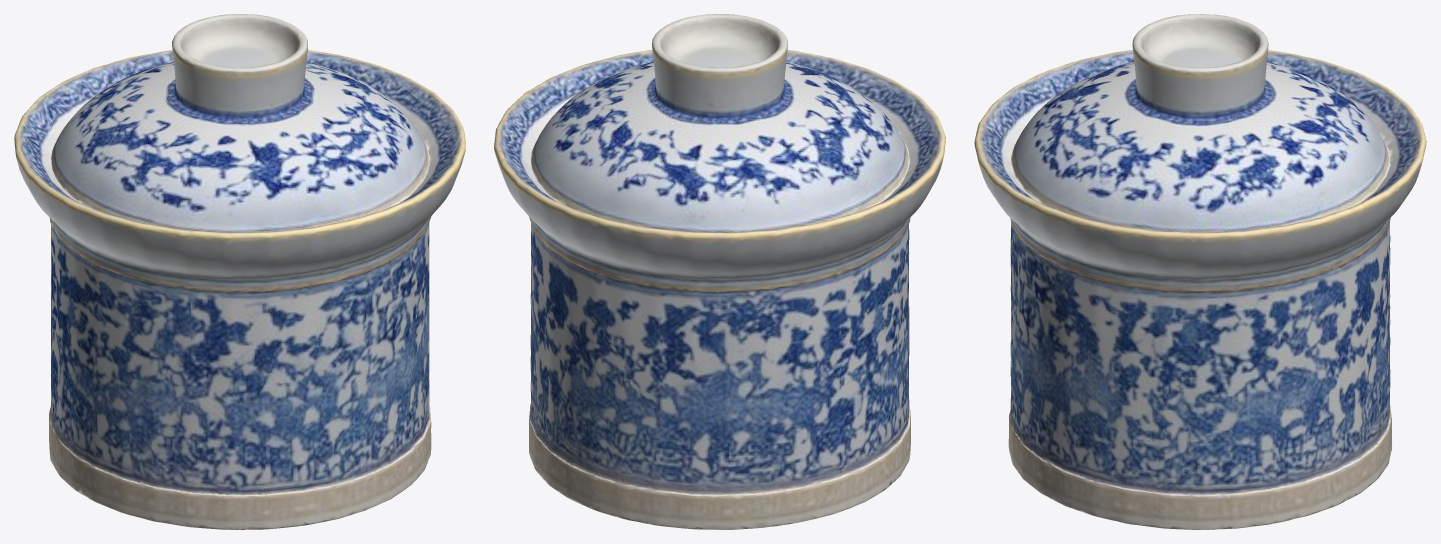
File: porcelain_3.glb
3 views of the same model, side by side, from view 1: azimuth 30°, elevation 25°; view 2: azimuth 150°, elevation 25°; view 3: azimuth 270°, elevation 25° (orthographic).
Parts seen in each view (by area): view 1: geometry_0; view 2: geometry_0; view 3: geometry_0.
Part boxes in pixels (box(x1,y1,x2,y2)): geometry_0: box(14, 14, 465, 529); geometry_0: box(494, 14, 945, 529); geometry_0: box(974, 14, 1426, 529).
Size of the model in its own units: 1 by 0.9992 by 1.
Materials: 1 (1 with a texture image).
